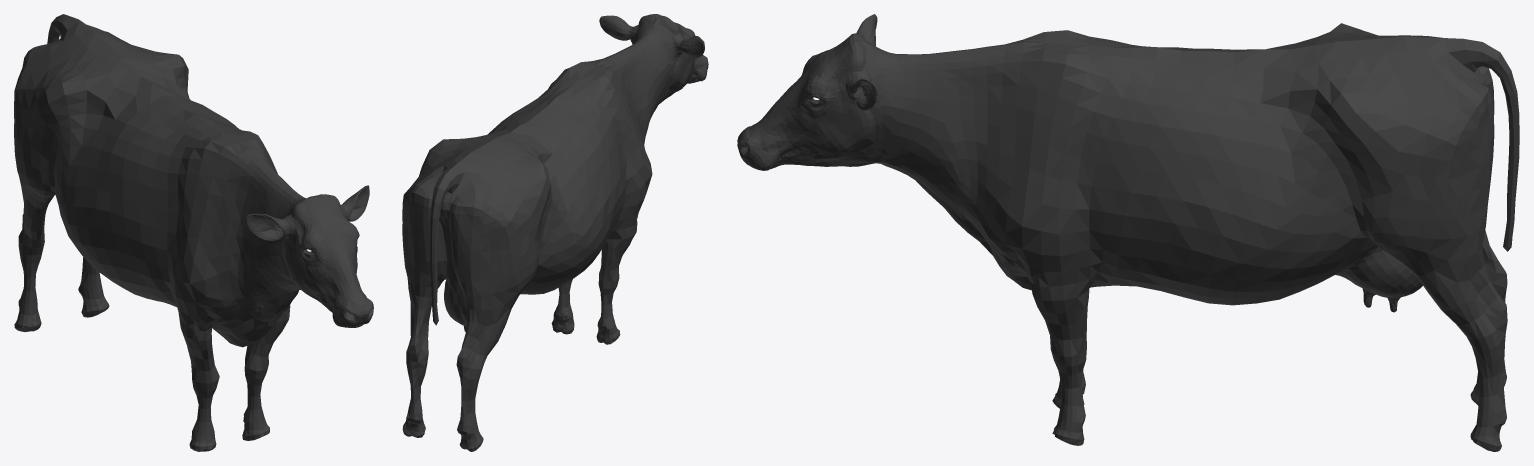
Rendered from cow_body.glb.
3 views of the same model, side by side, from view 1: azimuth 30°, elevation 25°; view 2: azimuth 150°, elevation 25°; view 3: azimuth 270°, elevation 25° (orthographic). The views are drawn at different scales.
Visible parts, largest first — view 1: cow_body; view 2: cow_body; view 3: cow_body.
Part boxes in pixels (x1,y1,x2,y2): cow_body: (14, 14, 373, 451); cow_body: (402, 14, 708, 451); cow_body: (737, 14, 1519, 451).
Bounding box in the file's own units: 0.7686 × 1.41 × 2.54.
Materials: 1 (1 with a texture image).
